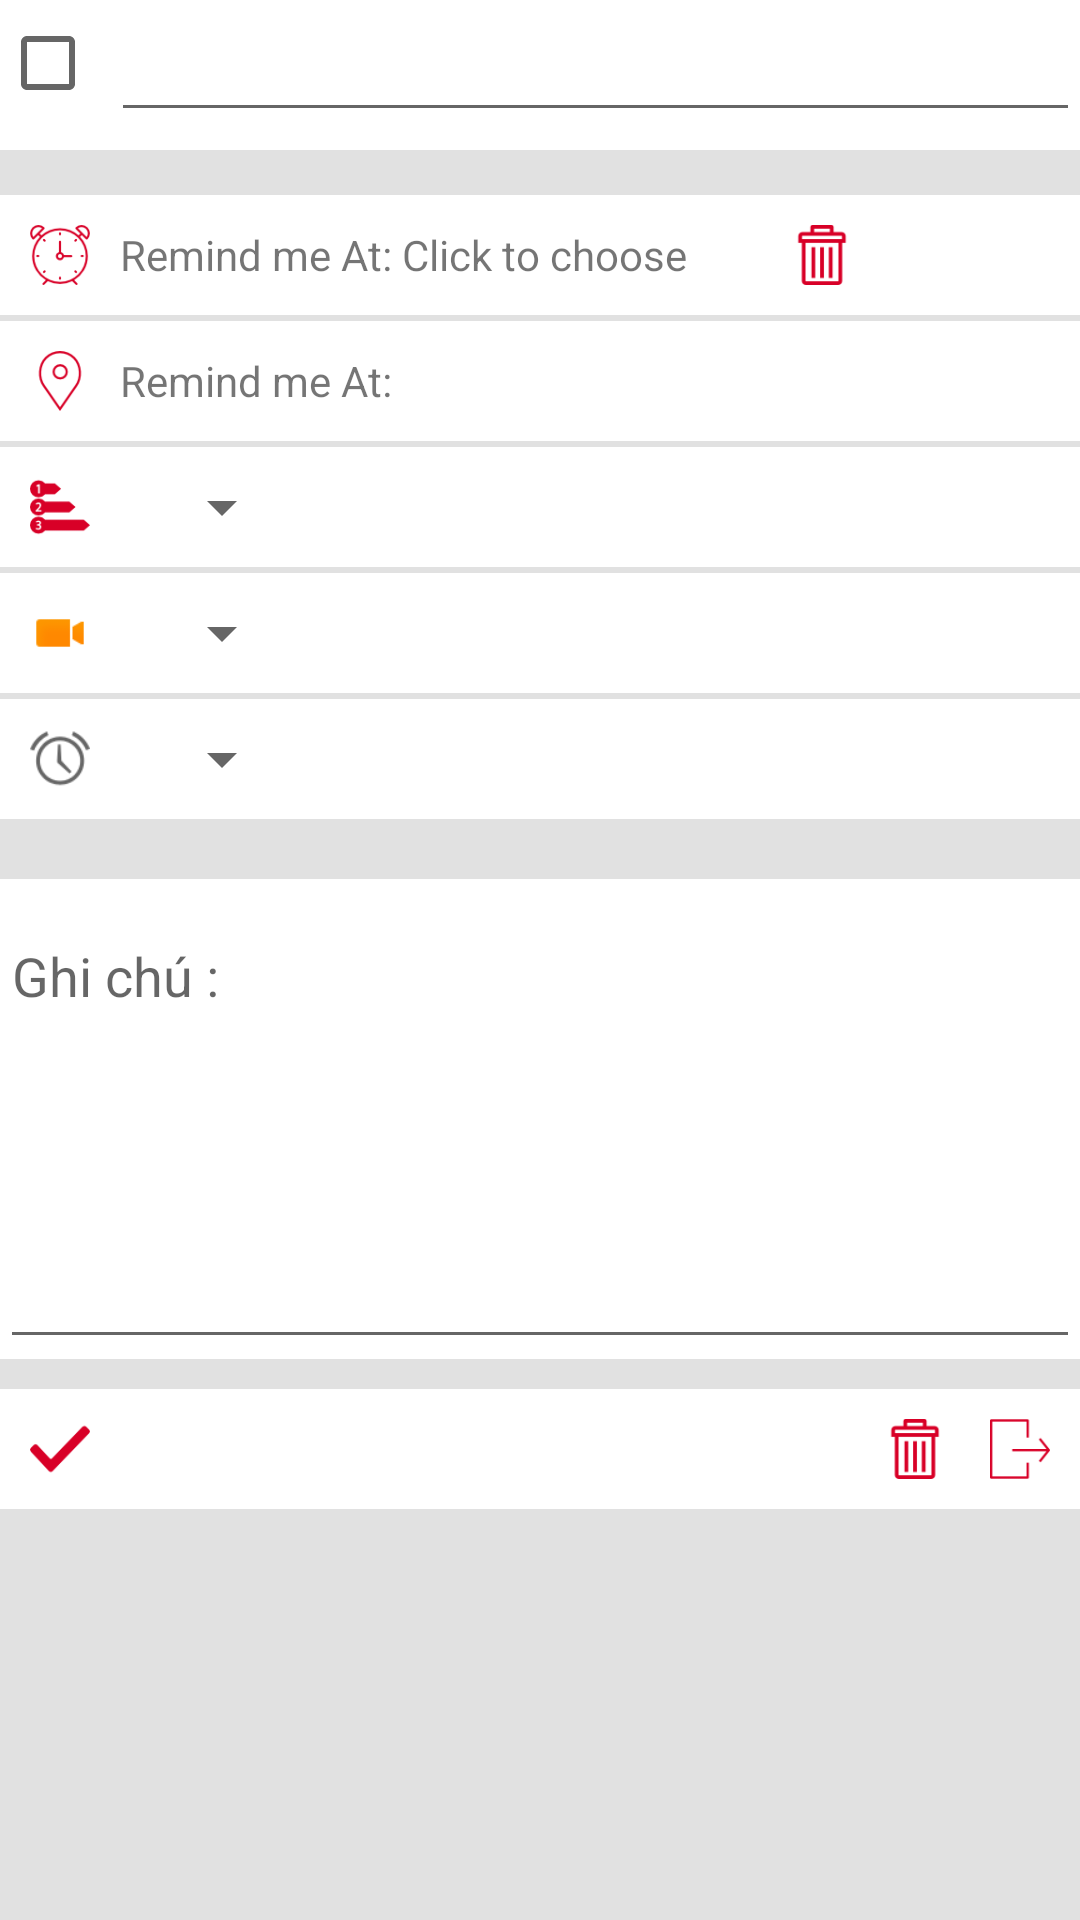

Screen size 1080 x 1920. Icon name, then its center in pixels as [x,y]:
alarm clock: [60,255]
delete: [822,255], [915,1449]
exit: [1020,1449]
locate: [60,381]
lock idle alarm: [60,758]
presence video away: [60,633]
priority: [60,507]
